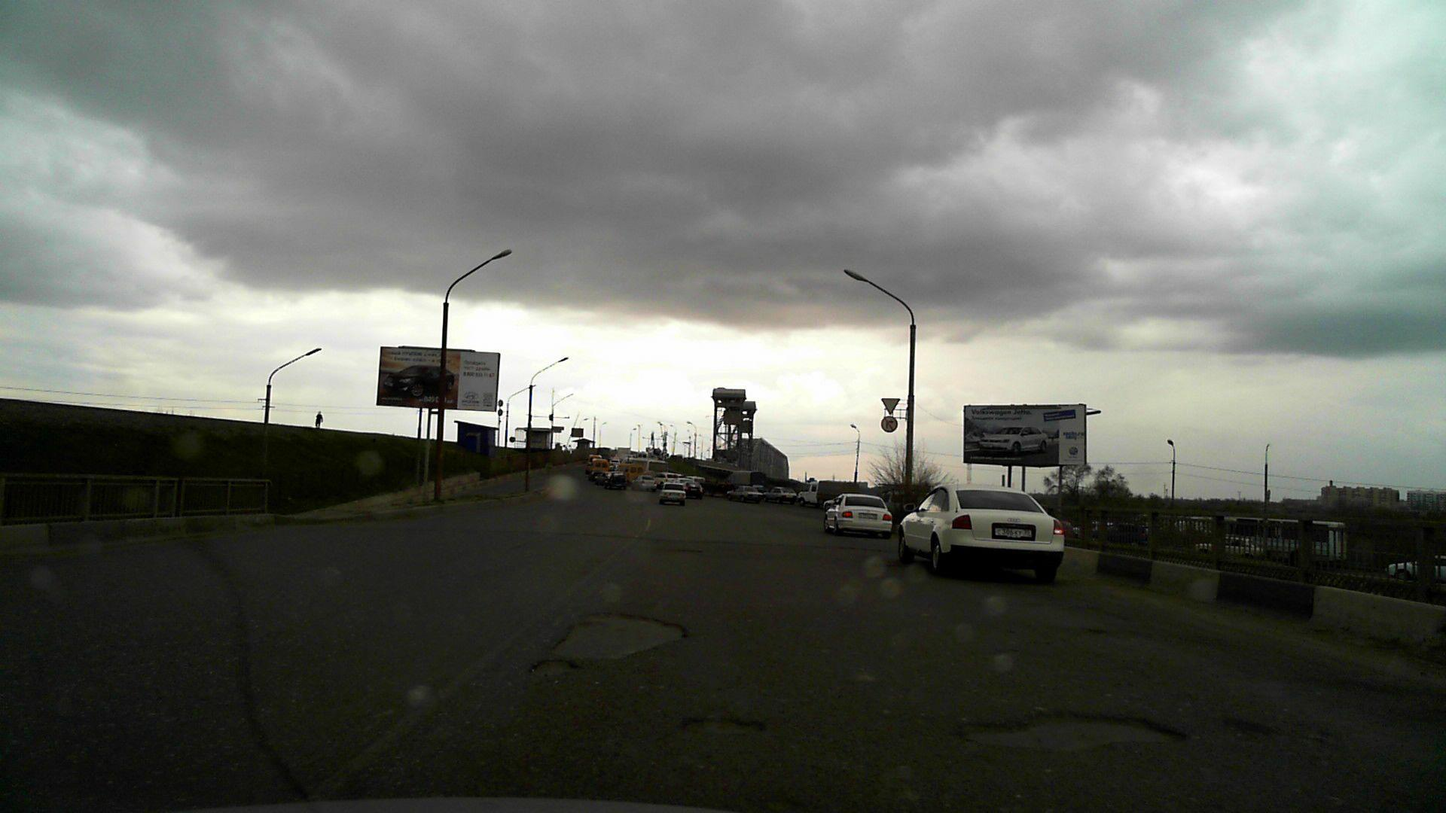road_sign: (880, 398, 902, 416), (880, 415, 898, 434)
